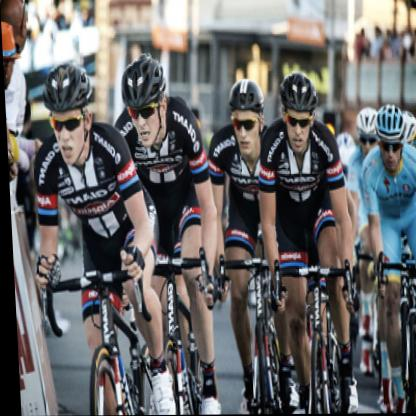With Helmet: (36, 49, 102, 168), (113, 40, 174, 160), (272, 62, 322, 159), (223, 72, 270, 162), (369, 99, 412, 174)
